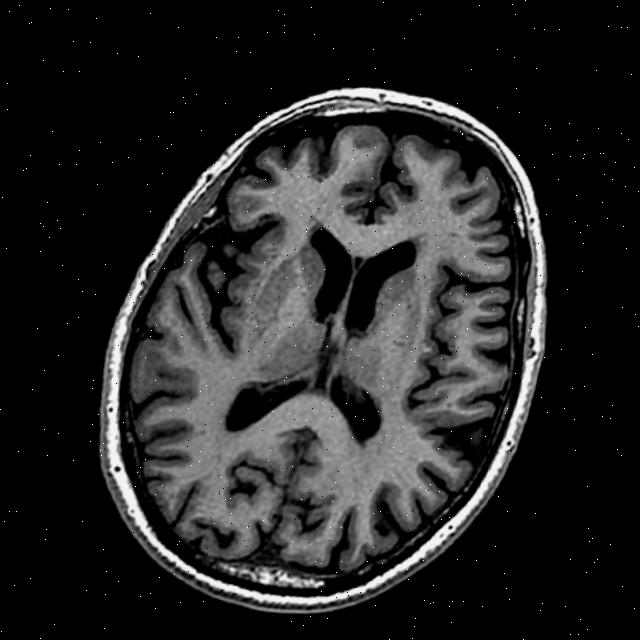NoTumor: (50, 36, 602, 633)
